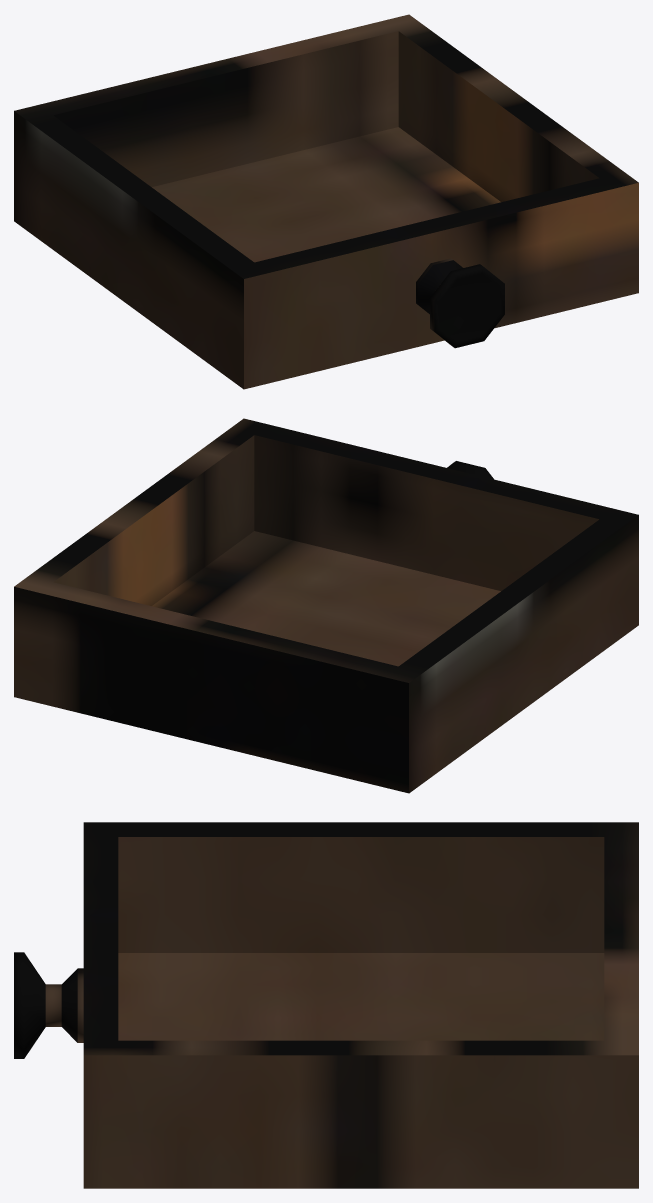
The model's file is Writing_Desk_Large_Bottom_Drawer.FBX.
The picture shows the model from 3 angles, top to bottom: view 1: azimuth 30°, elevation 25°; view 2: azimuth 150°, elevation 25°; view 3: azimuth 270°, elevation 25°; orthographic projection. The views are drawn at different scales.
Visible parts, largest first — view 1: Writing_Desk_Large_Bottom_Desk; view 2: Writing_Desk_Large_Bottom_Desk; view 3: Writing_Desk_Large_Bottom_Desk.
Boxes of the visible parts, x1,y1,x2,y2 form: Writing_Desk_Large_Bottom_Desk: (14,14,638,389); Writing_Desk_Large_Bottom_Desk: (14,418,638,793); Writing_Desk_Large_Bottom_Desk: (14,822,638,1188).
Bounding box in the file's own units: 31.72 × 8.47 × 35.96.
